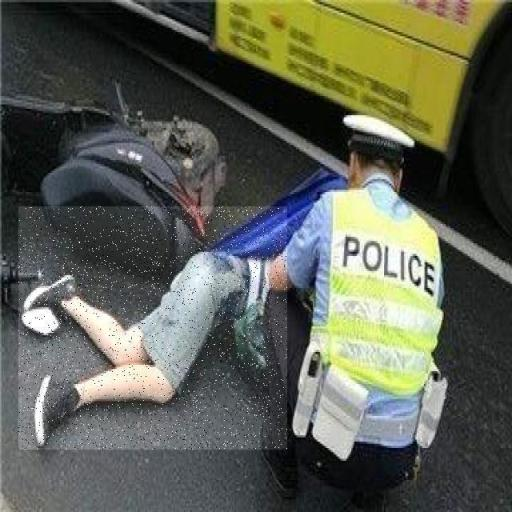Fall: (19, 208, 288, 451)
